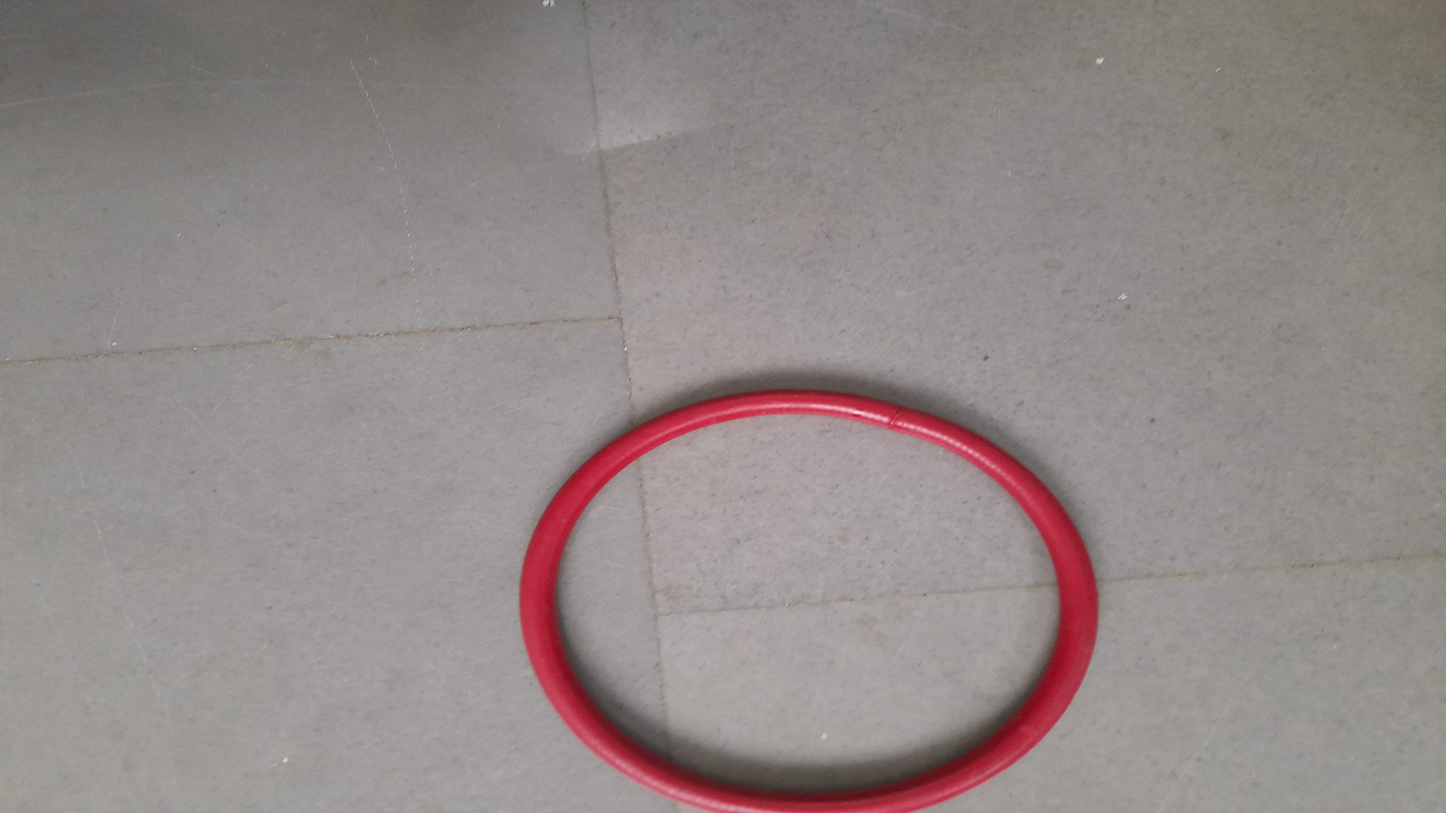Red ring: (517, 388, 1100, 813)
